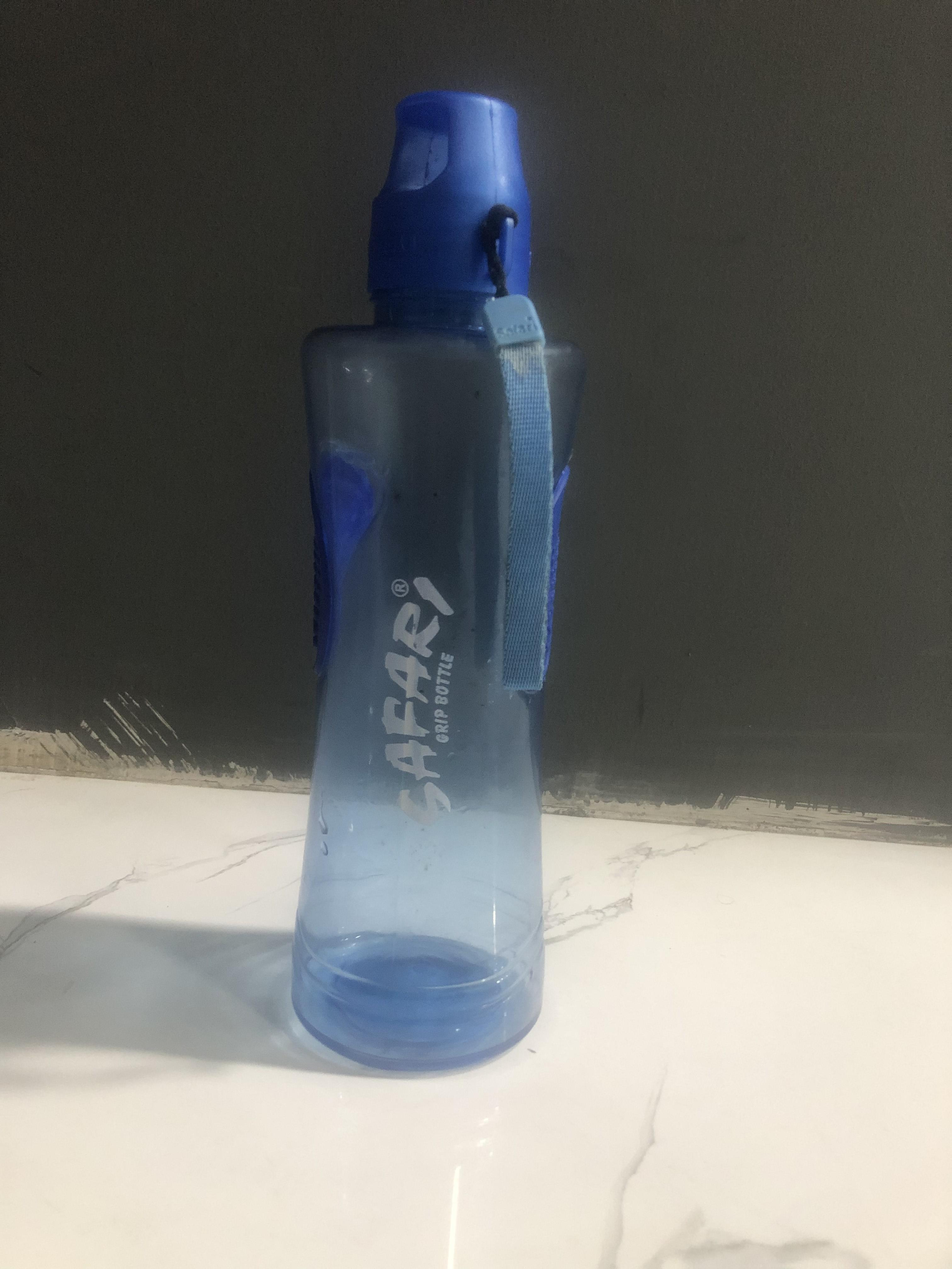gym bottle: (285, 71, 591, 1076)
